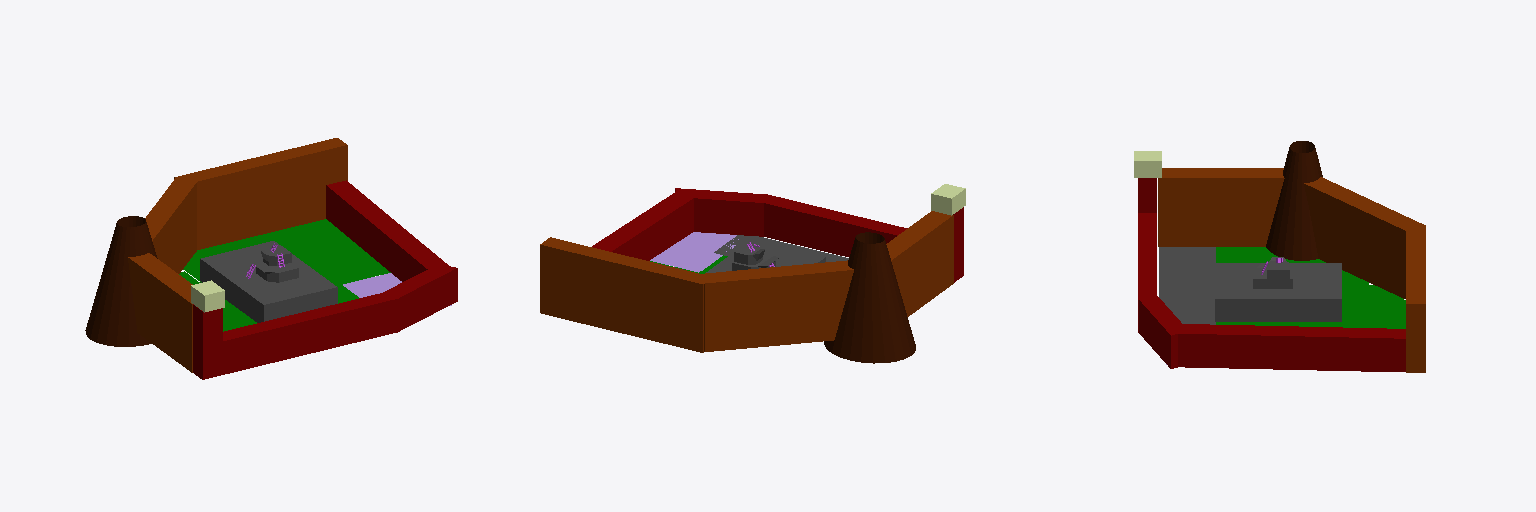
Rendered from Fachada-V1.obj.
3 views of the same model, side by side, from view 1: azimuth 30°, elevation 25°; view 2: azimuth 150°, elevation 25°; view 3: azimuth 270°, elevation 25° (orthographic).
Visible parts, largest first — view 1: Box008, Box005, Box012, Box006, Box003, Cone001, Plane004, Box009, Box010, Box001, Plane003, Box002 (+3 smaller); view 2: Box008, Box009, Cone001, Box003, Box005, Box006, Box010, Plane002, Box012, Box002, Plane001, Box001; view 3: Box006, Box003, Box009, Box012, Cone001, Plane001, Box008, Box010, Plane005, Box005, Plane003, Plane006 (+3 smaller).
Part boxes in pixels (left/top/right/bottom): Box008: left=174, top=138, right=347, bottom=249; Box005: left=222, top=293, right=399, bottom=374; Box012: left=200, top=241, right=337, bottom=322; Box006: left=326, top=180, right=453, bottom=281; Box003: left=128, top=253, right=192, bottom=372; Cone001: left=85, top=216, right=157, bottom=346; Plane004: left=268, top=219, right=390, bottom=284; Box009: left=145, top=178, right=196, bottom=273; Box010: left=379, top=264, right=457, bottom=330; Box001: left=193, top=304, right=222, bottom=379; Plane003: left=223, top=266, right=358, bottom=331; Box002: left=191, top=280, right=224, bottom=312; Box008: left=540, top=237, right=711, bottom=352; Box009: left=696, top=260, right=853, bottom=351; Cone001: left=824, top=232, right=915, bottom=363; Box003: left=886, top=211, right=953, bottom=316; Box005: left=757, top=194, right=907, bottom=256; Box006: left=592, top=189, right=698, bottom=260; Box010: left=675, top=188, right=767, bottom=236; Plane002: left=650, top=232, right=738, bottom=272; Box012: left=706, top=239, right=825, bottom=272; Box002: left=931, top=184, right=965, bottom=215; Plane001: left=714, top=235, right=848, bottom=261; Box001: left=953, top=207, right=963, bottom=282; Box006: left=1170, top=324, right=1405, bottom=371; Box003: left=1158, top=168, right=1284, bottom=246; Box009: left=1304, top=177, right=1423, bottom=298; Box012: left=1215, top=263, right=1341, bottom=321; Cone001: left=1266, top=141, right=1322, bottom=260; Plane001: left=1159, top=247, right=1215, bottom=324; Box008: left=1406, top=225, right=1425, bottom=372; Box010: left=1139, top=294, right=1182, bottom=368; Plane005: left=1315, top=300, right=1405, bottom=328; Box005: left=1138, top=213, right=1156, bottom=332; Plane003: left=1216, top=247, right=1314, bottom=326; Plane006: left=1342, top=285, right=1403, bottom=300.
Size of the model in its own units: 172 by 57.12 by 141.